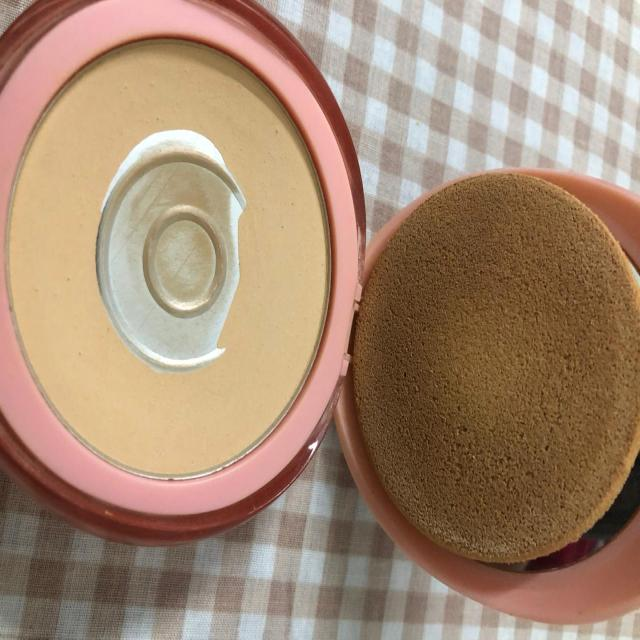beauty blender: (363, 160, 640, 592)
powder: (0, 5, 360, 518)
